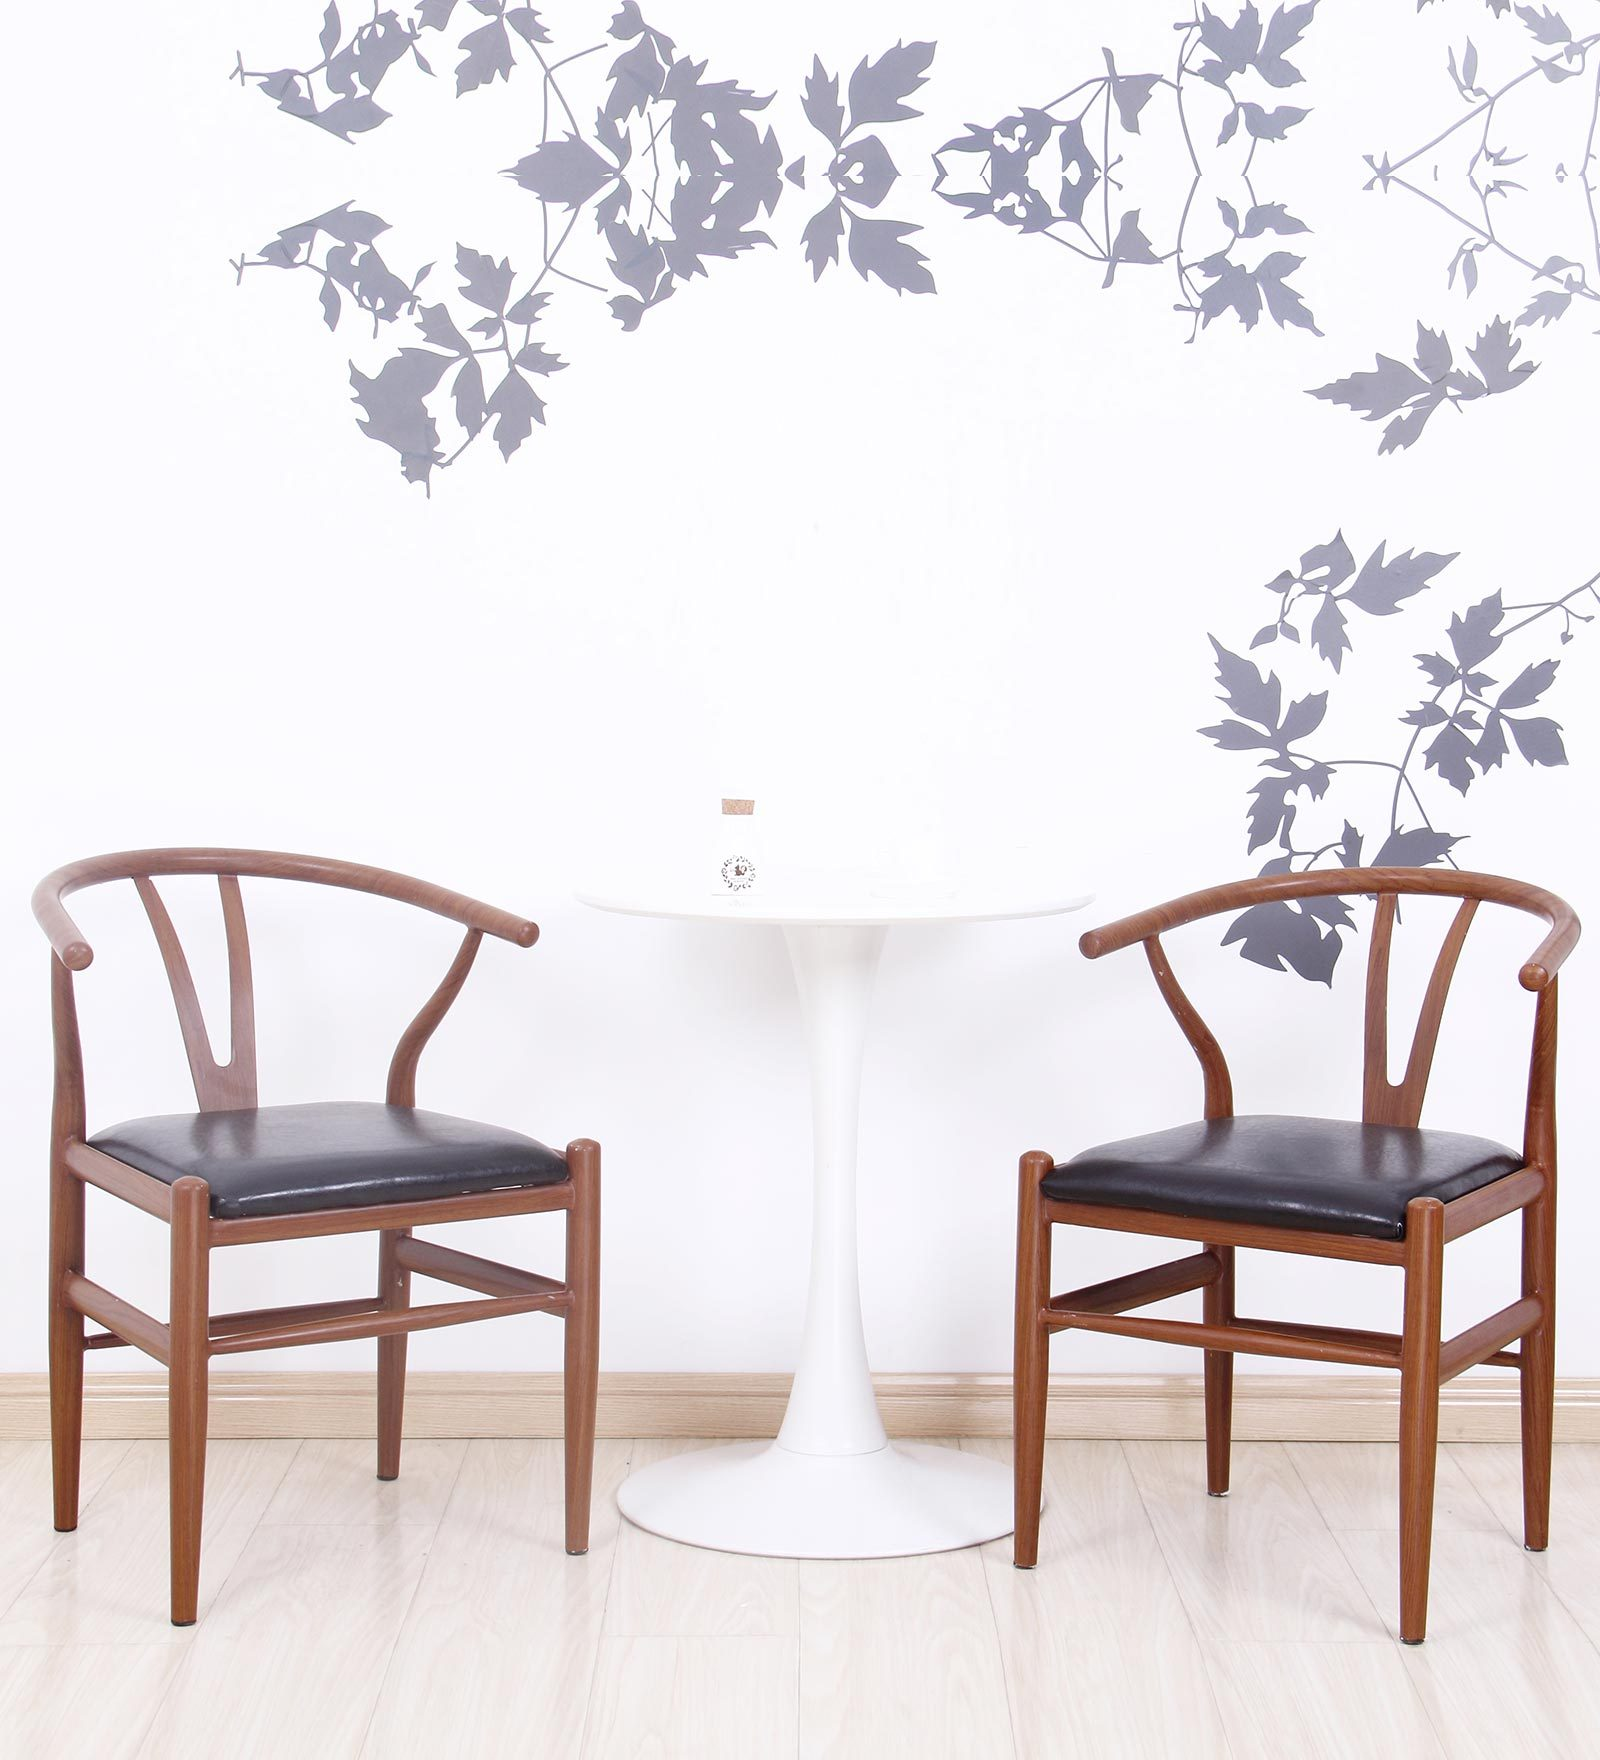Palo Metal Chair (Set of 2) in Walnut Finish by Bohemiana: (31, 799, 621, 1630), (1015, 800, 1575, 1670)
